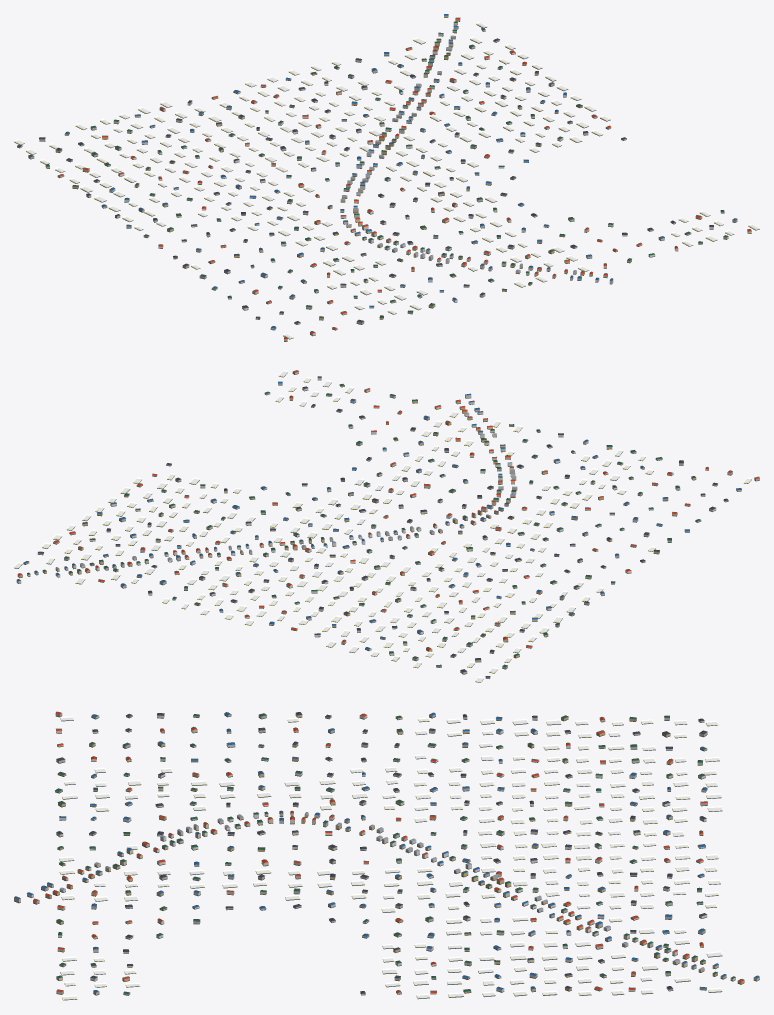
File: buildings_T_W05_N04.glb
The picture shows the model from 3 angles, top to bottom: view 1: azimuth 30°, elevation 25°; view 2: azimuth 150°, elevation 25°; view 3: azimuth 270°, elevation 25°; orthographic projection. The views are drawn at different scales.
Parts seen in each view (by area): view 1: T_W05_N04_roofs_agri_greenhouse_arch, T_W05_N04_slope_seating_foundations, T_W05_N04_walls_wall_pastel_sand_gray, T_W05_N04_walls_wall_french_ochre_villa, T_W05_N04_roofs_roof_pine_green_hip, T_W05_N04_walls_wall_modern_warm_white, T_W05_N04_walls_wall_dalat_cream_stucco, T_W05_N04_roofs_roof_highland_blue_gable, T_W05_N04_roofs_roof_terracotta_gable, T_W05_N04_roofs_roof_slate_French_villa_hip; view 2: T_W05_N04_roofs_agri_greenhouse_arch, T_W05_N04_slope_seating_foundations, T_W05_N04_walls_wall_pastel_sand_gray, T_W05_N04_roofs_roof_pine_green_hip, T_W05_N04_walls_wall_modern_warm_white, T_W05_N04_walls_wall_french_ochre_villa, T_W05_N04_walls_wall_dalat_cream_stucco, T_W05_N04_roofs_roof_highland_blue_gable, T_W05_N04_roofs_roof_terracotta_gable, T_W05_N04_roofs_roof_slate_French_villa_hip; view 3: T_W05_N04_roofs_agri_greenhouse_arch, T_W05_N04_slope_seating_foundations, T_W05_N04_walls_wall_pastel_sand_gray, T_W05_N04_walls_wall_french_ochre_villa, T_W05_N04_roofs_roof_pine_green_hip, T_W05_N04_walls_wall_modern_warm_white, T_W05_N04_walls_wall_dalat_cream_stucco, T_W05_N04_roofs_roof_highland_blue_gable, T_W05_N04_roofs_roof_slate_French_villa_hip, T_W05_N04_roofs_roof_terracotta_gable.
Boxes of the visible parts, x1,y1,x2,y2 form: T_W05_N04_roofs_agri_greenhouse_arch: [14, 21, 759, 338]; T_W05_N04_slope_seating_foundations: [14, 17, 759, 341]; T_W05_N04_walls_wall_pastel_sand_gray: [28, 26, 737, 341]; T_W05_N04_walls_wall_french_ochre_villa: [45, 19, 702, 319]; T_W05_N04_roofs_roof_pine_green_hip: [28, 21, 728, 317]; T_W05_N04_walls_wall_modern_warm_white: [94, 23, 713, 335]; T_W05_N04_walls_wall_dalat_cream_stucco: [17, 14, 751, 329]; T_W05_N04_roofs_roof_highland_blue_gable: [65, 14, 736, 328]; T_W05_N04_roofs_roof_terracotta_gable: [58, 17, 751, 339]; T_W05_N04_roofs_roof_slate_French_villa_hip: [17, 38, 713, 323]; T_W05_N04_roofs_agri_greenhouse_arch: [14, 370, 751, 682]; T_W05_N04_slope_seating_foundations: [14, 372, 759, 682]; T_W05_N04_walls_wall_pastel_sand_gray: [34, 383, 759, 674]; T_W05_N04_roofs_roof_pine_green_hip: [27, 376, 700, 667]; T_W05_N04_walls_wall_modern_warm_white: [27, 388, 732, 655]; T_W05_N04_walls_wall_french_ochre_villa: [17, 385, 696, 667]; T_W05_N04_walls_wall_dalat_cream_stucco: [16, 371, 741, 678]; T_W05_N04_roofs_roof_highland_blue_gable: [17, 381, 741, 666]; T_W05_N04_roofs_roof_terracotta_gable: [18, 370, 759, 649]; T_W05_N04_roofs_roof_slate_French_villa_hip: [38, 386, 728, 677]; T_W05_N04_roofs_agri_greenhouse_arch: [59, 716, 722, 999]; T_W05_N04_slope_seating_foundations: [14, 715, 759, 1000]; T_W05_N04_walls_wall_pastel_sand_gray: [33, 712, 726, 995]; T_W05_N04_walls_wall_french_ochre_villa: [45, 713, 744, 992]; T_W05_N04_roofs_roof_pine_green_hip: [55, 713, 735, 993]; T_W05_N04_walls_wall_modern_warm_white: [27, 714, 735, 991]; T_W05_N04_walls_wall_dalat_cream_stucco: [14, 716, 759, 994]; T_W05_N04_roofs_roof_highland_blue_gable: [14, 712, 759, 992]; T_W05_N04_roofs_roof_slate_French_villa_hip: [56, 712, 707, 993]; T_W05_N04_roofs_roof_terracotta_gable: [33, 711, 744, 992].
Size of the model in its own units: 1725 by 32.08 by 1945.
